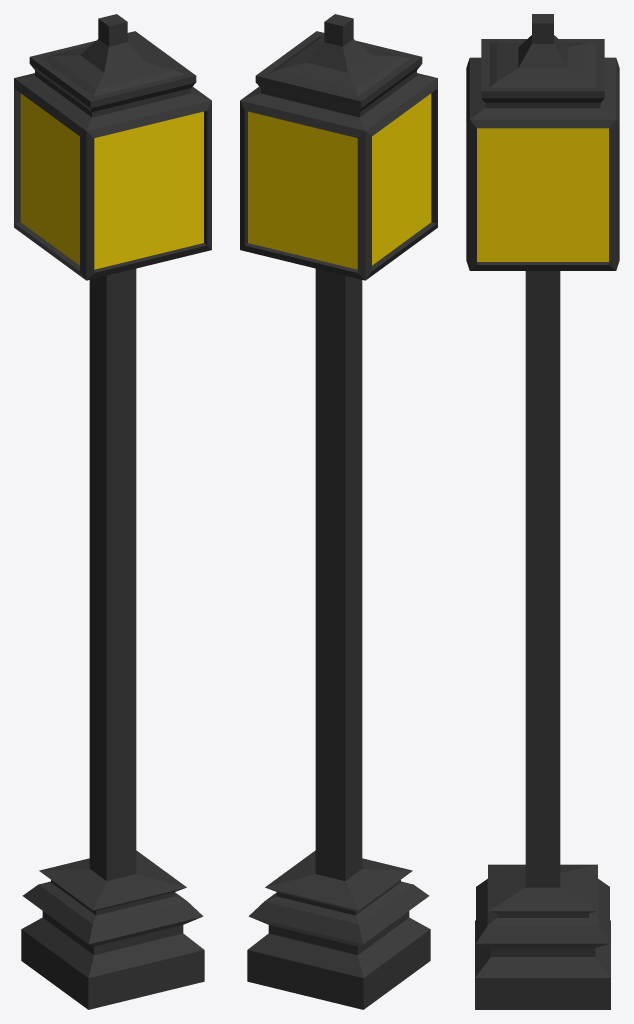
File: light2.gltf
3 views of the same model, side by side, from view 1: azimuth 30°, elevation 25°; view 2: azimuth 150°, elevation 25°; view 3: azimuth 270°, elevation 25° (orthographic).
Parts seen in each view (by area): view 1: Cube; view 2: Cube; view 3: Cube.
Part boxes in pixels (x1,y1,x2,y2): Cube: [14, 14, 211, 1009]; Cube: [240, 14, 437, 1009]; Cube: [466, 14, 619, 1009].
Bounding box in the file's own units: 2.26 × 15.66 × 2.26.
